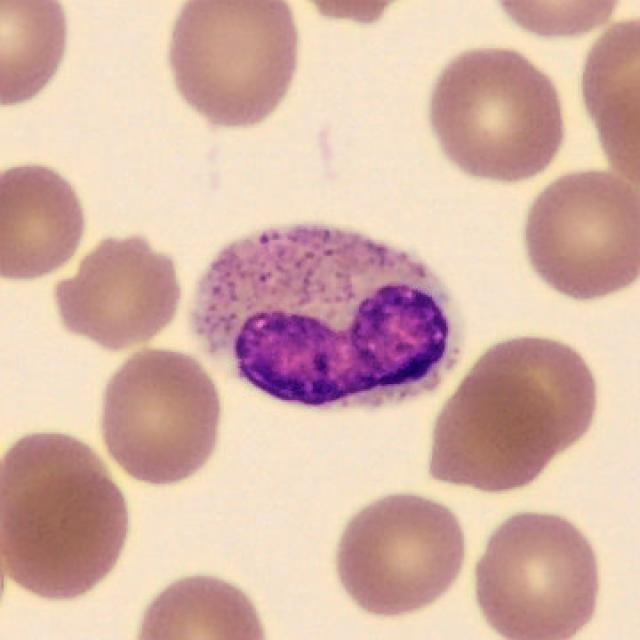Metamielocito: (190, 224, 464, 407)
